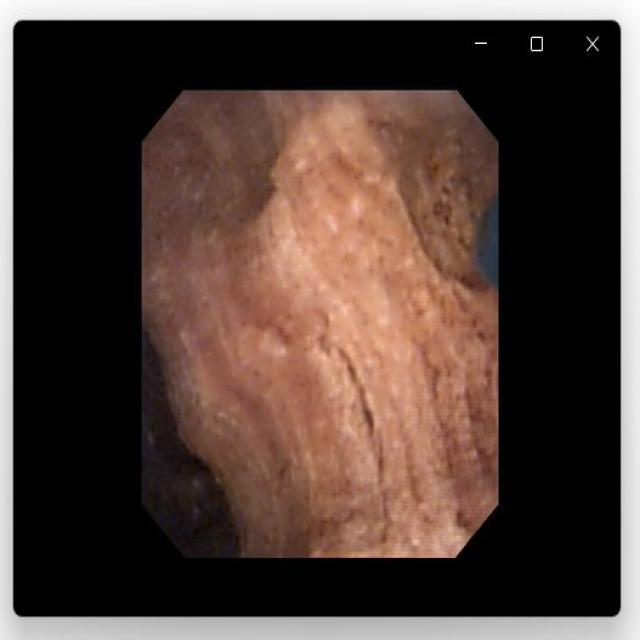stone: (147, 95, 491, 550)
